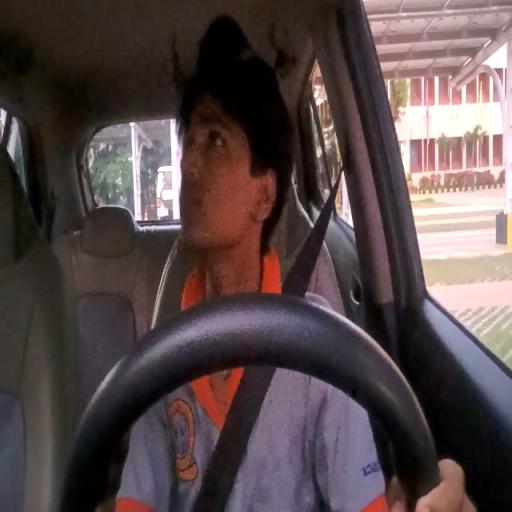Reaching_behind: (129, 18, 370, 488)
